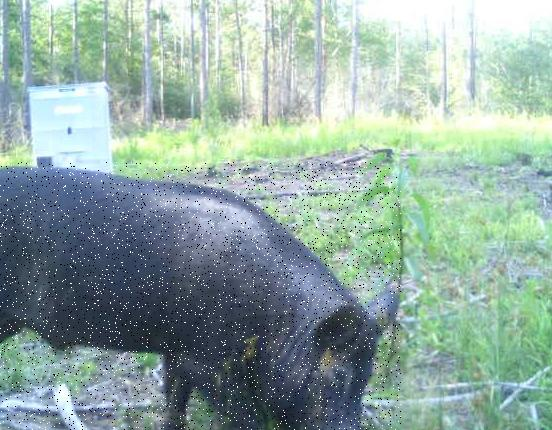Hog: (0, 162, 401, 430)
